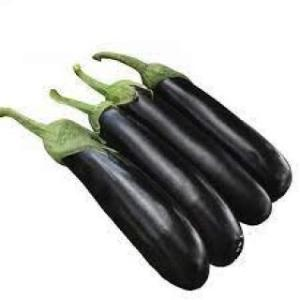eggplant: (35, 117, 209, 289), (91, 101, 241, 267), (109, 81, 268, 224), (140, 61, 288, 196)
